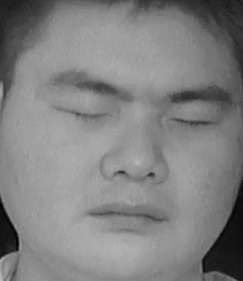blink: (59, 95, 112, 129), (172, 103, 217, 137)
mouth: (80, 189, 171, 237)
